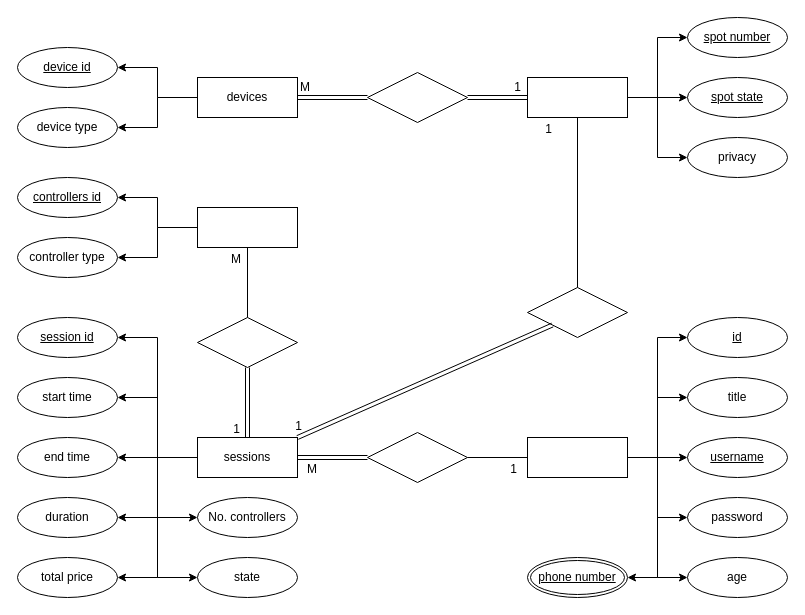
Image size: 805x615. Some labels were removed from this diagram. Here are the shapes that lost their labels. From the top down, the centre of each, then its label:
[417,97]: assigned
[577,97]: spots
[247,227]: controllers
[577,312]: use
[247,342]: play with
[417,457]: create
[577,457]: admin
